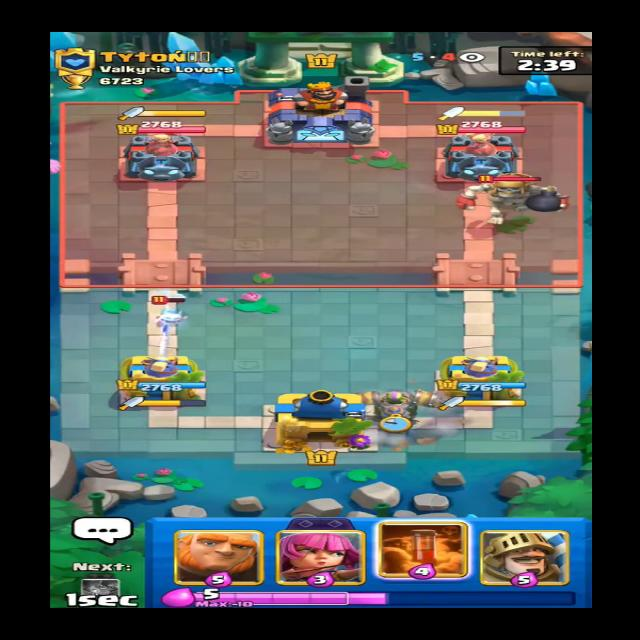giant-skeleton: (453, 172, 569, 228)
ice-spirit: (147, 297, 190, 327)
